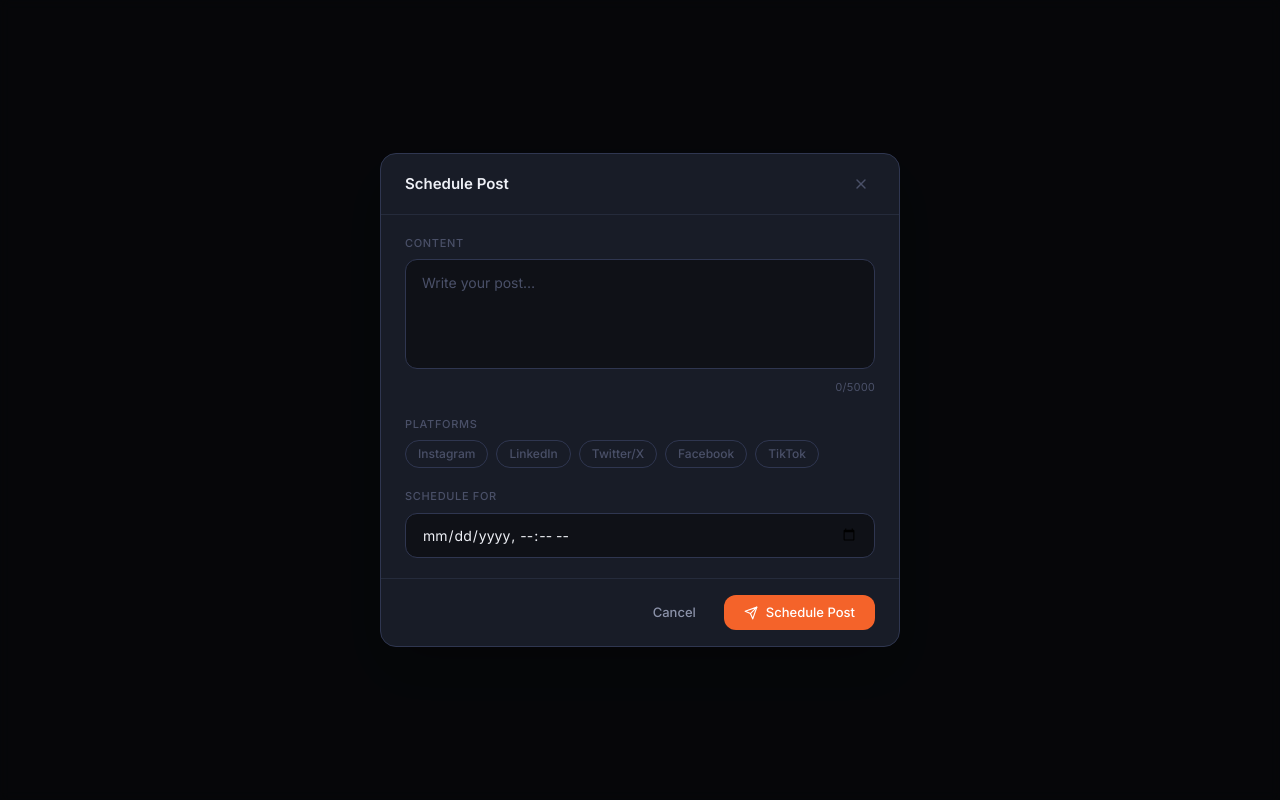
Test: ComposeModal › shows error when submitting with empty content
This screenshot has width=1280, height=800.
Click the button "Schedule Post" at (799, 613), box left=724, top=595, right=875, bottom=630
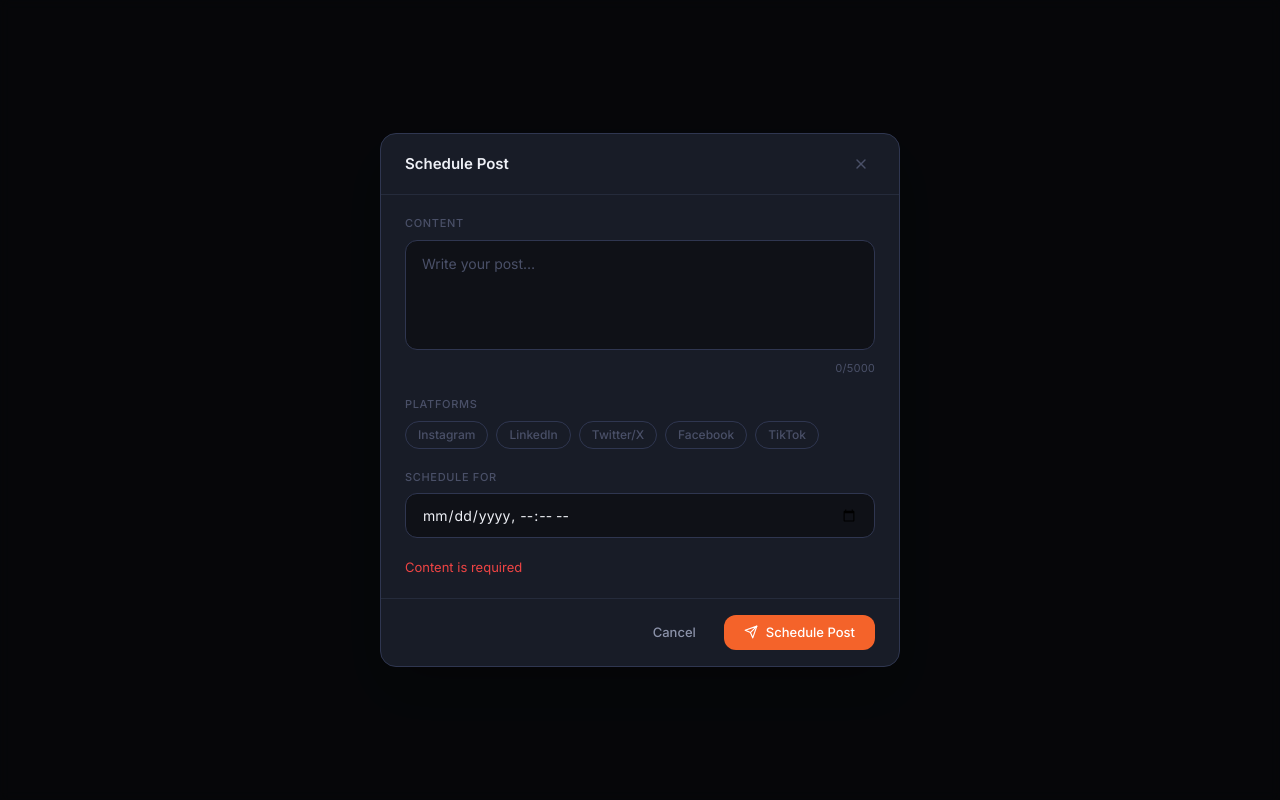
Check: the text "Content is required" is shown, box left=405, top=559, right=522, bottom=575
